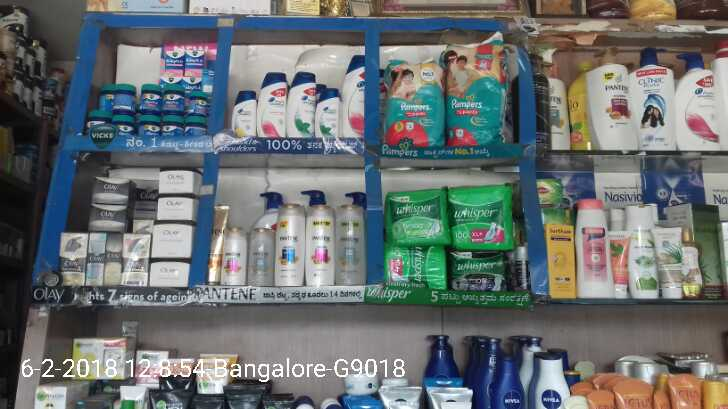beauty: (306, 206, 338, 289), (276, 203, 306, 288), (256, 65, 288, 138), (118, 230, 150, 287), (59, 232, 88, 287), (288, 73, 312, 139), (231, 92, 256, 146), (89, 174, 132, 204), (317, 90, 339, 134), (91, 205, 127, 231)
pharmacy: (441, 44, 511, 146), (384, 59, 445, 148), (445, 186, 514, 246), (381, 187, 450, 245), (446, 245, 524, 296), (384, 245, 447, 287), (110, 81, 135, 110), (138, 82, 160, 113), (184, 90, 210, 116), (161, 87, 184, 115)
